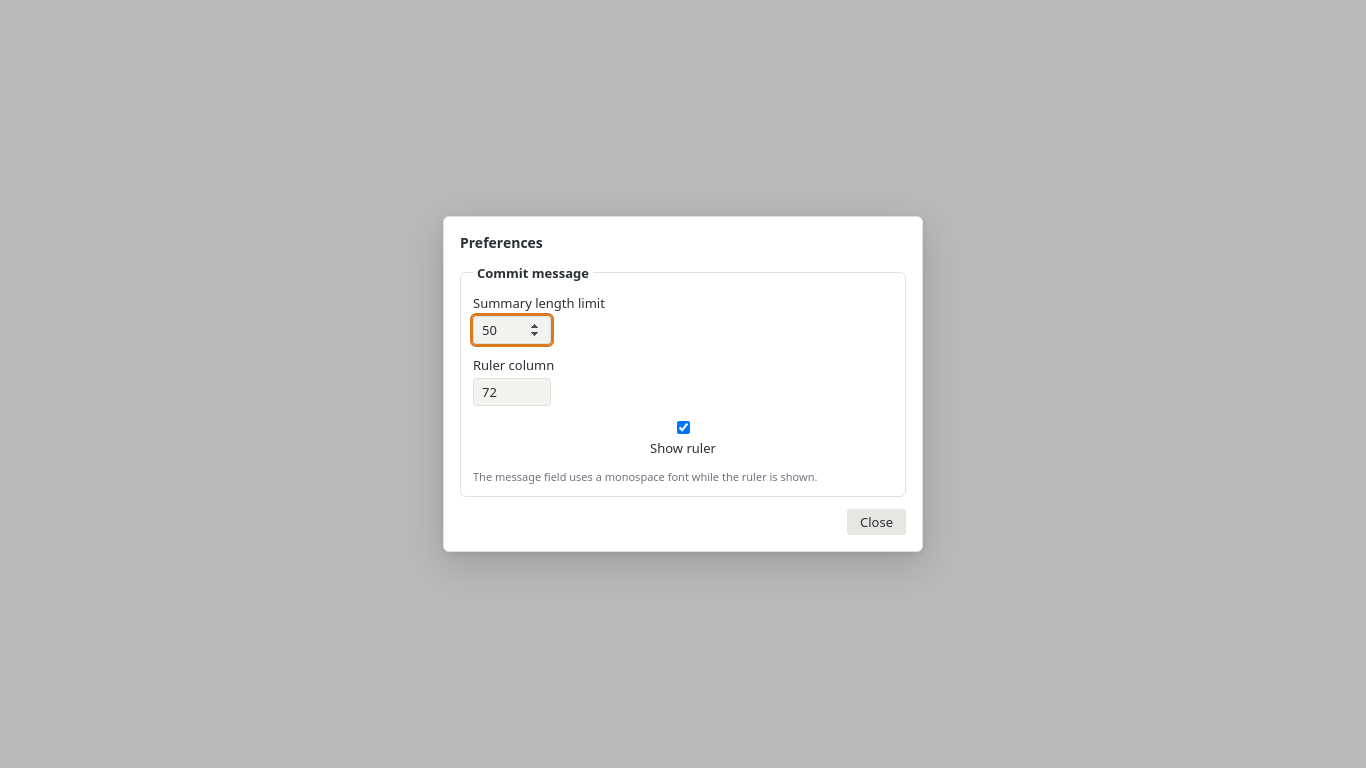
Commit message preferences › shows a failed save
What coordinates should you click on to do the following:
click the checkbox labelled "Show ruler"
I would click on:
 (684, 427)
Its box is [677,421,690,434].
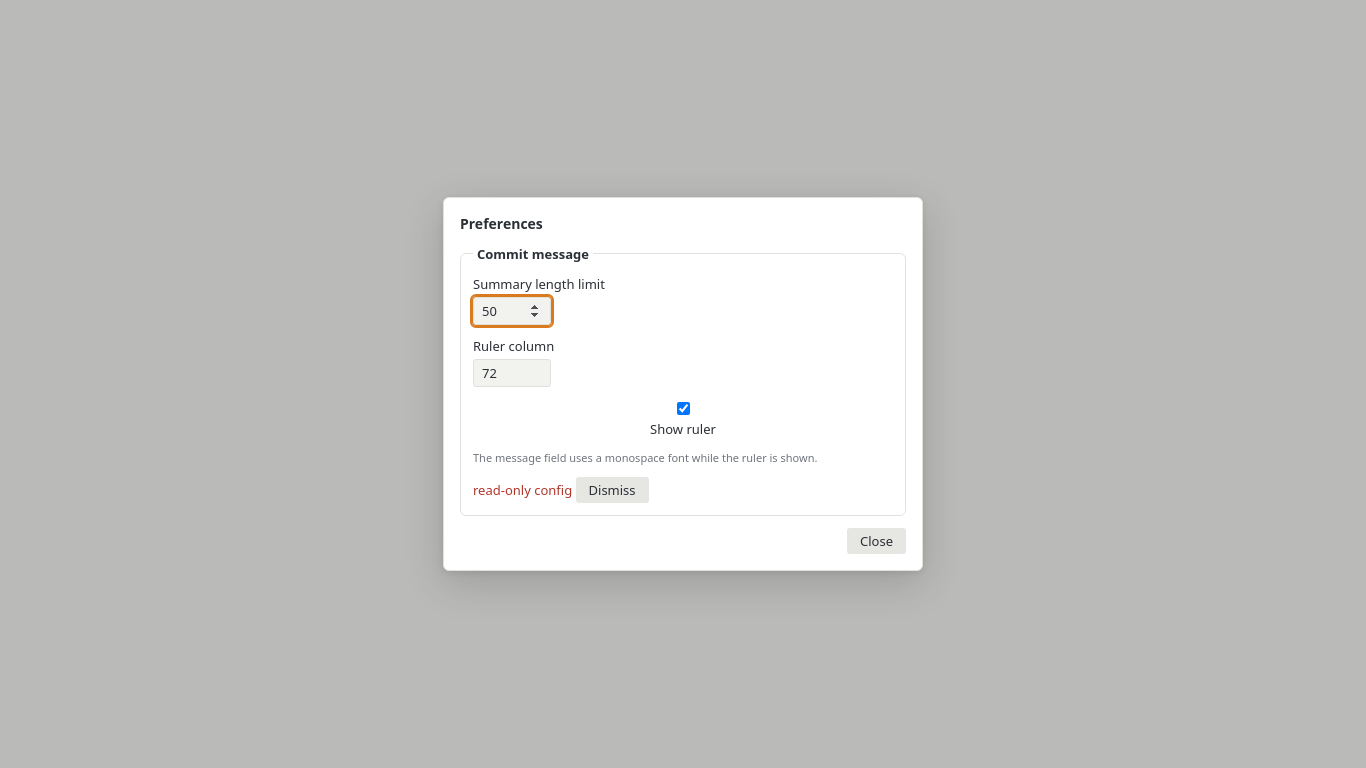
Now the message shows "read-only config", box [473,481,572,499]
